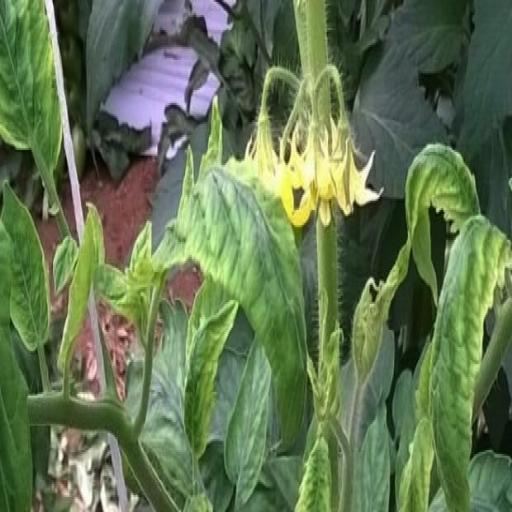Yellow Leaf Curl Virus: (176, 166, 310, 455), (426, 210, 504, 504), (0, 0, 64, 178), (182, 294, 238, 468)
